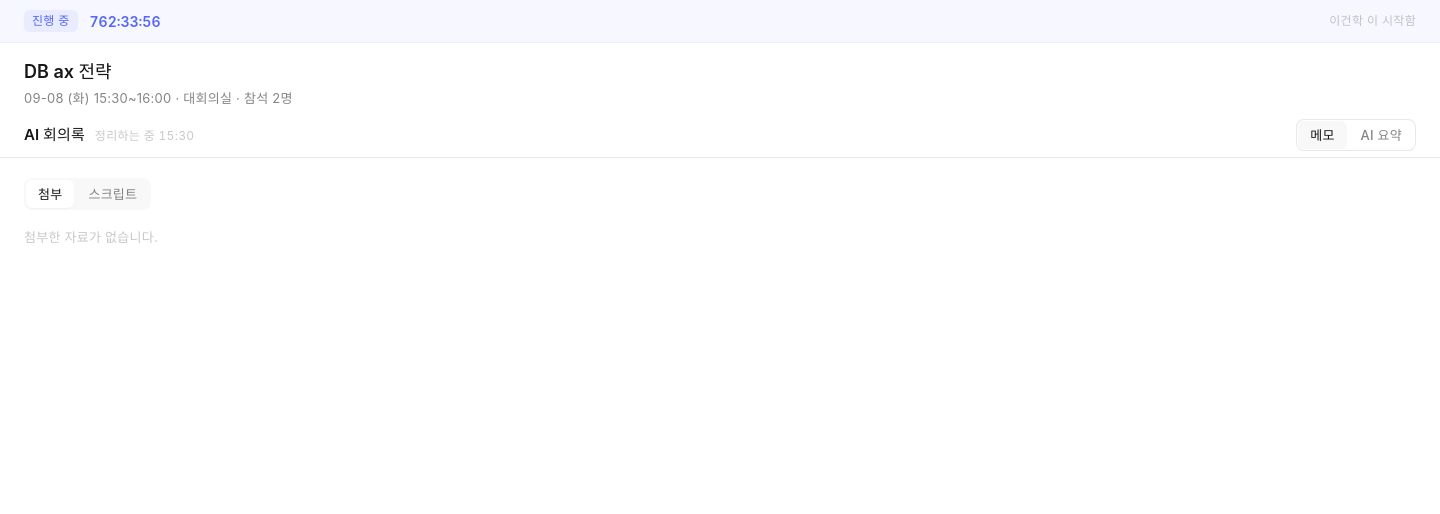
SCR-106 「진행 중」 — 회의 스트림 › 회의 중에도 줄의 시간 칩을 눌러 스크립트의 그 자리로 간다 (D3)
Expected: the heading "DB ax 전략" is shown, [24, 59, 112, 85]
What coordinates should you click on to do the following:
click the tab "AI 요약"
I would click on:
 (1381, 135)
Its box is [1349, 121, 1414, 149].
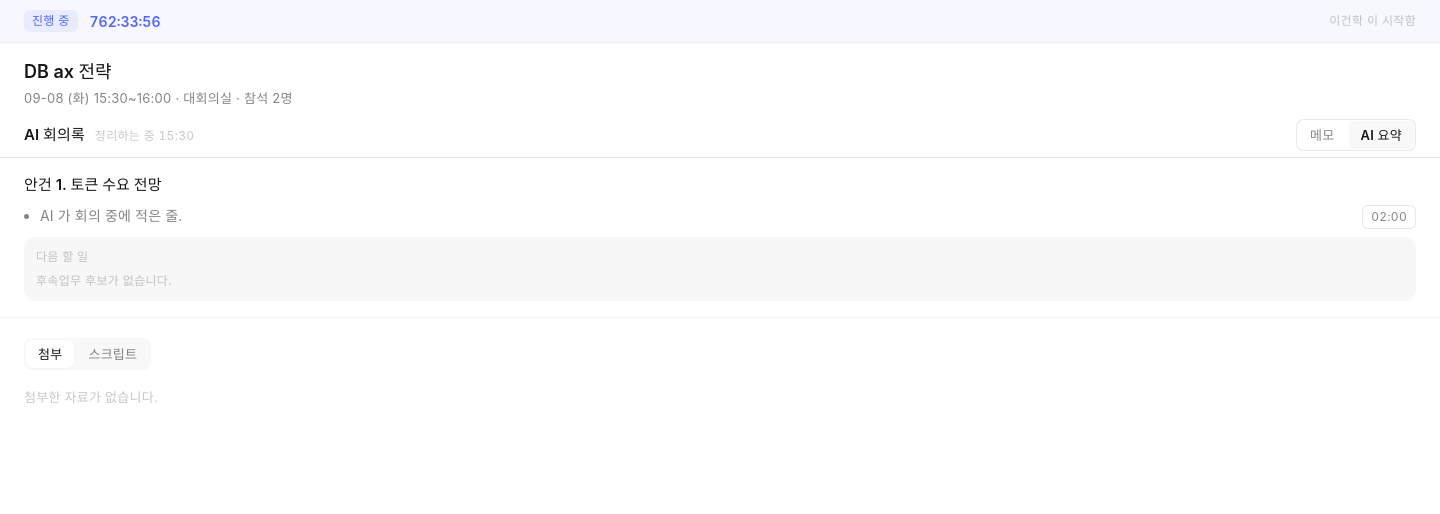
회의가 끝나기를 기다리지 않는다 — 시각이 보이는 줄은 그 자리에서 누를 수 있다
What coordinates should you click on to do the following:
click the button "02:00"
I would click on:
 (1389, 216)
Its box is [1362, 204, 1416, 228].
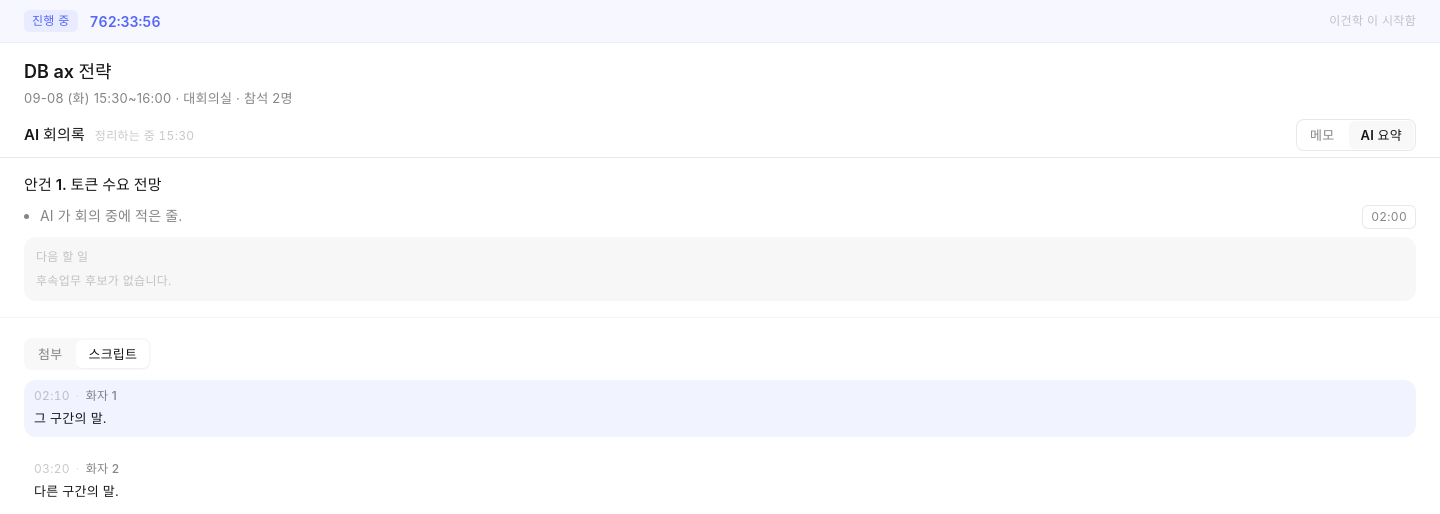
Result: the list item "02:10 · 화자 1 그 구간의 말." is shown at [24, 380, 1416, 436]
